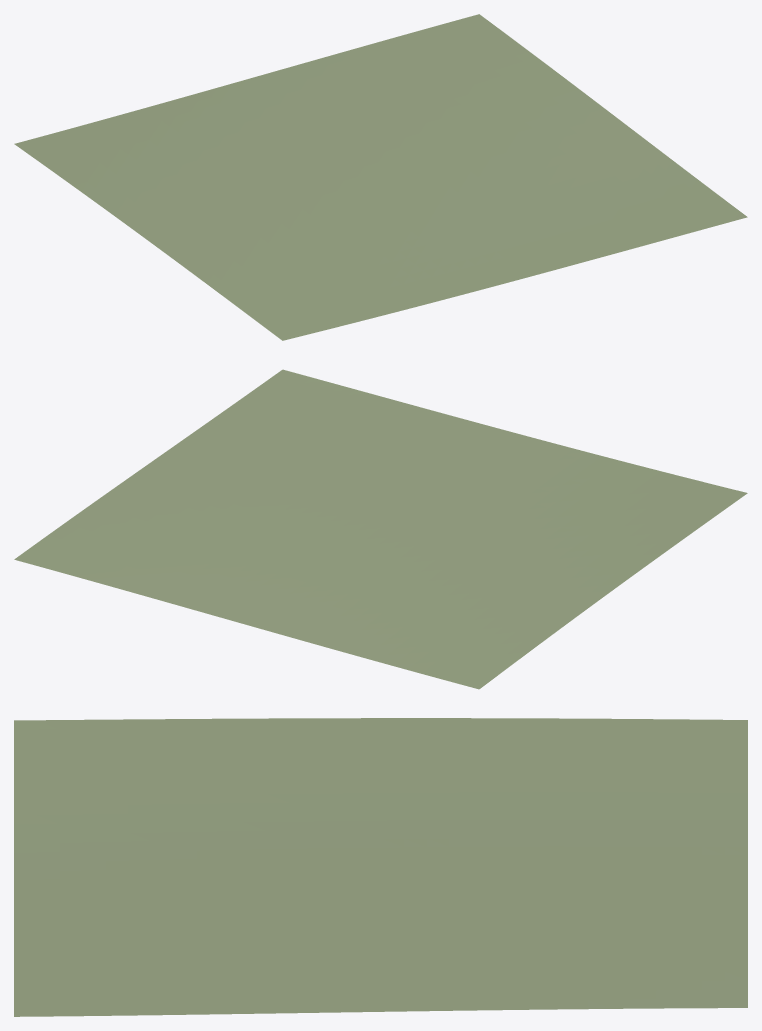
Rendered from expanse-21-5.glb.
The picture shows the model from 3 angles, top to bottom: view 1: azimuth 30°, elevation 25°; view 2: azimuth 150°, elevation 25°; view 3: azimuth 270°, elevation 25°; orthographic projection. The views are drawn at different scales.
Parts seen in each view (by area): view 1: expanse-21-5; view 2: expanse-21-5; view 3: expanse-21-5.
Part boxes in pixels (left/top/right/bottom): expanse-21-5: left=14, top=14, right=747, bottom=340; expanse-21-5: left=14, top=369, right=747, bottom=689; expanse-21-5: left=14, top=718, right=747, bottom=1016.
Size of the model in its own units: 256 by 8.71 by 256.
